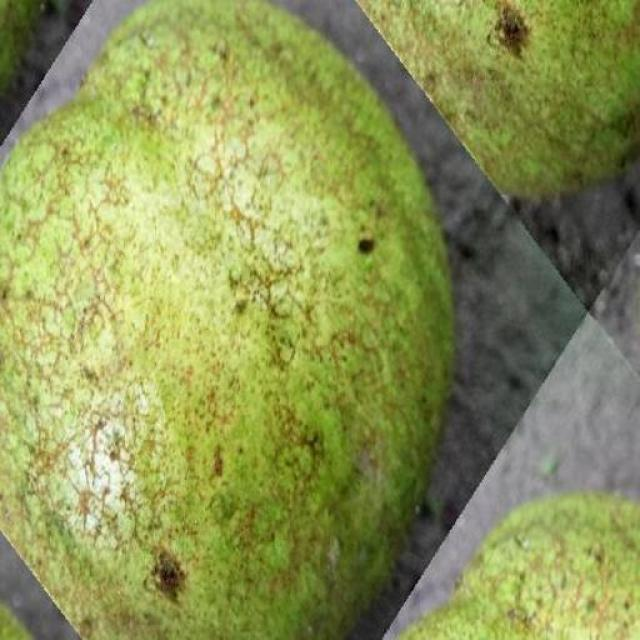Scab: (0, 1, 452, 640)
